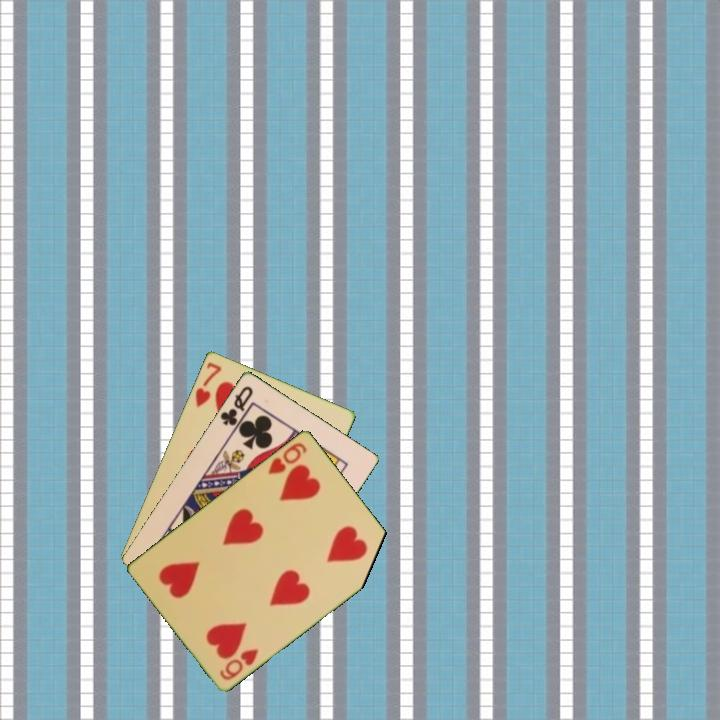6h: (264, 439, 310, 477), (216, 645, 261, 683)
7h: (191, 358, 225, 410)
Qc: (216, 382, 256, 434)
